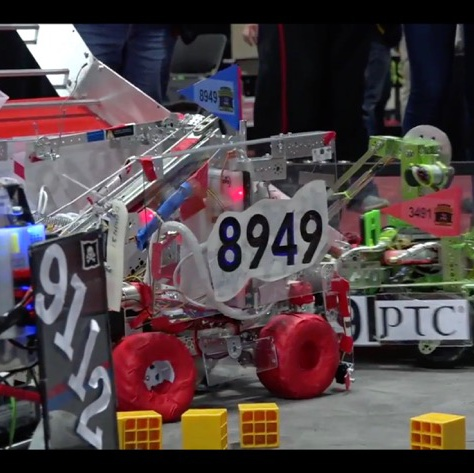robot: (0, 63, 457, 422), (324, 122, 474, 368), (0, 215, 124, 452)
